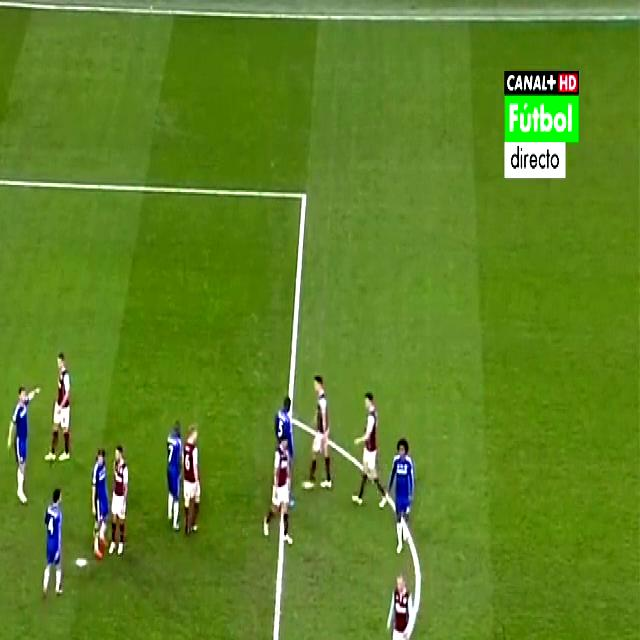soccer-player: (385, 428, 422, 552), (9, 375, 43, 509), (46, 341, 80, 470), (350, 384, 384, 511), (263, 422, 297, 545), (305, 368, 336, 502), (272, 385, 300, 516), (39, 481, 69, 602), (159, 414, 184, 536), (112, 436, 135, 567), (182, 418, 206, 539), (105, 434, 127, 558), (86, 442, 108, 564), (384, 565, 416, 640)
